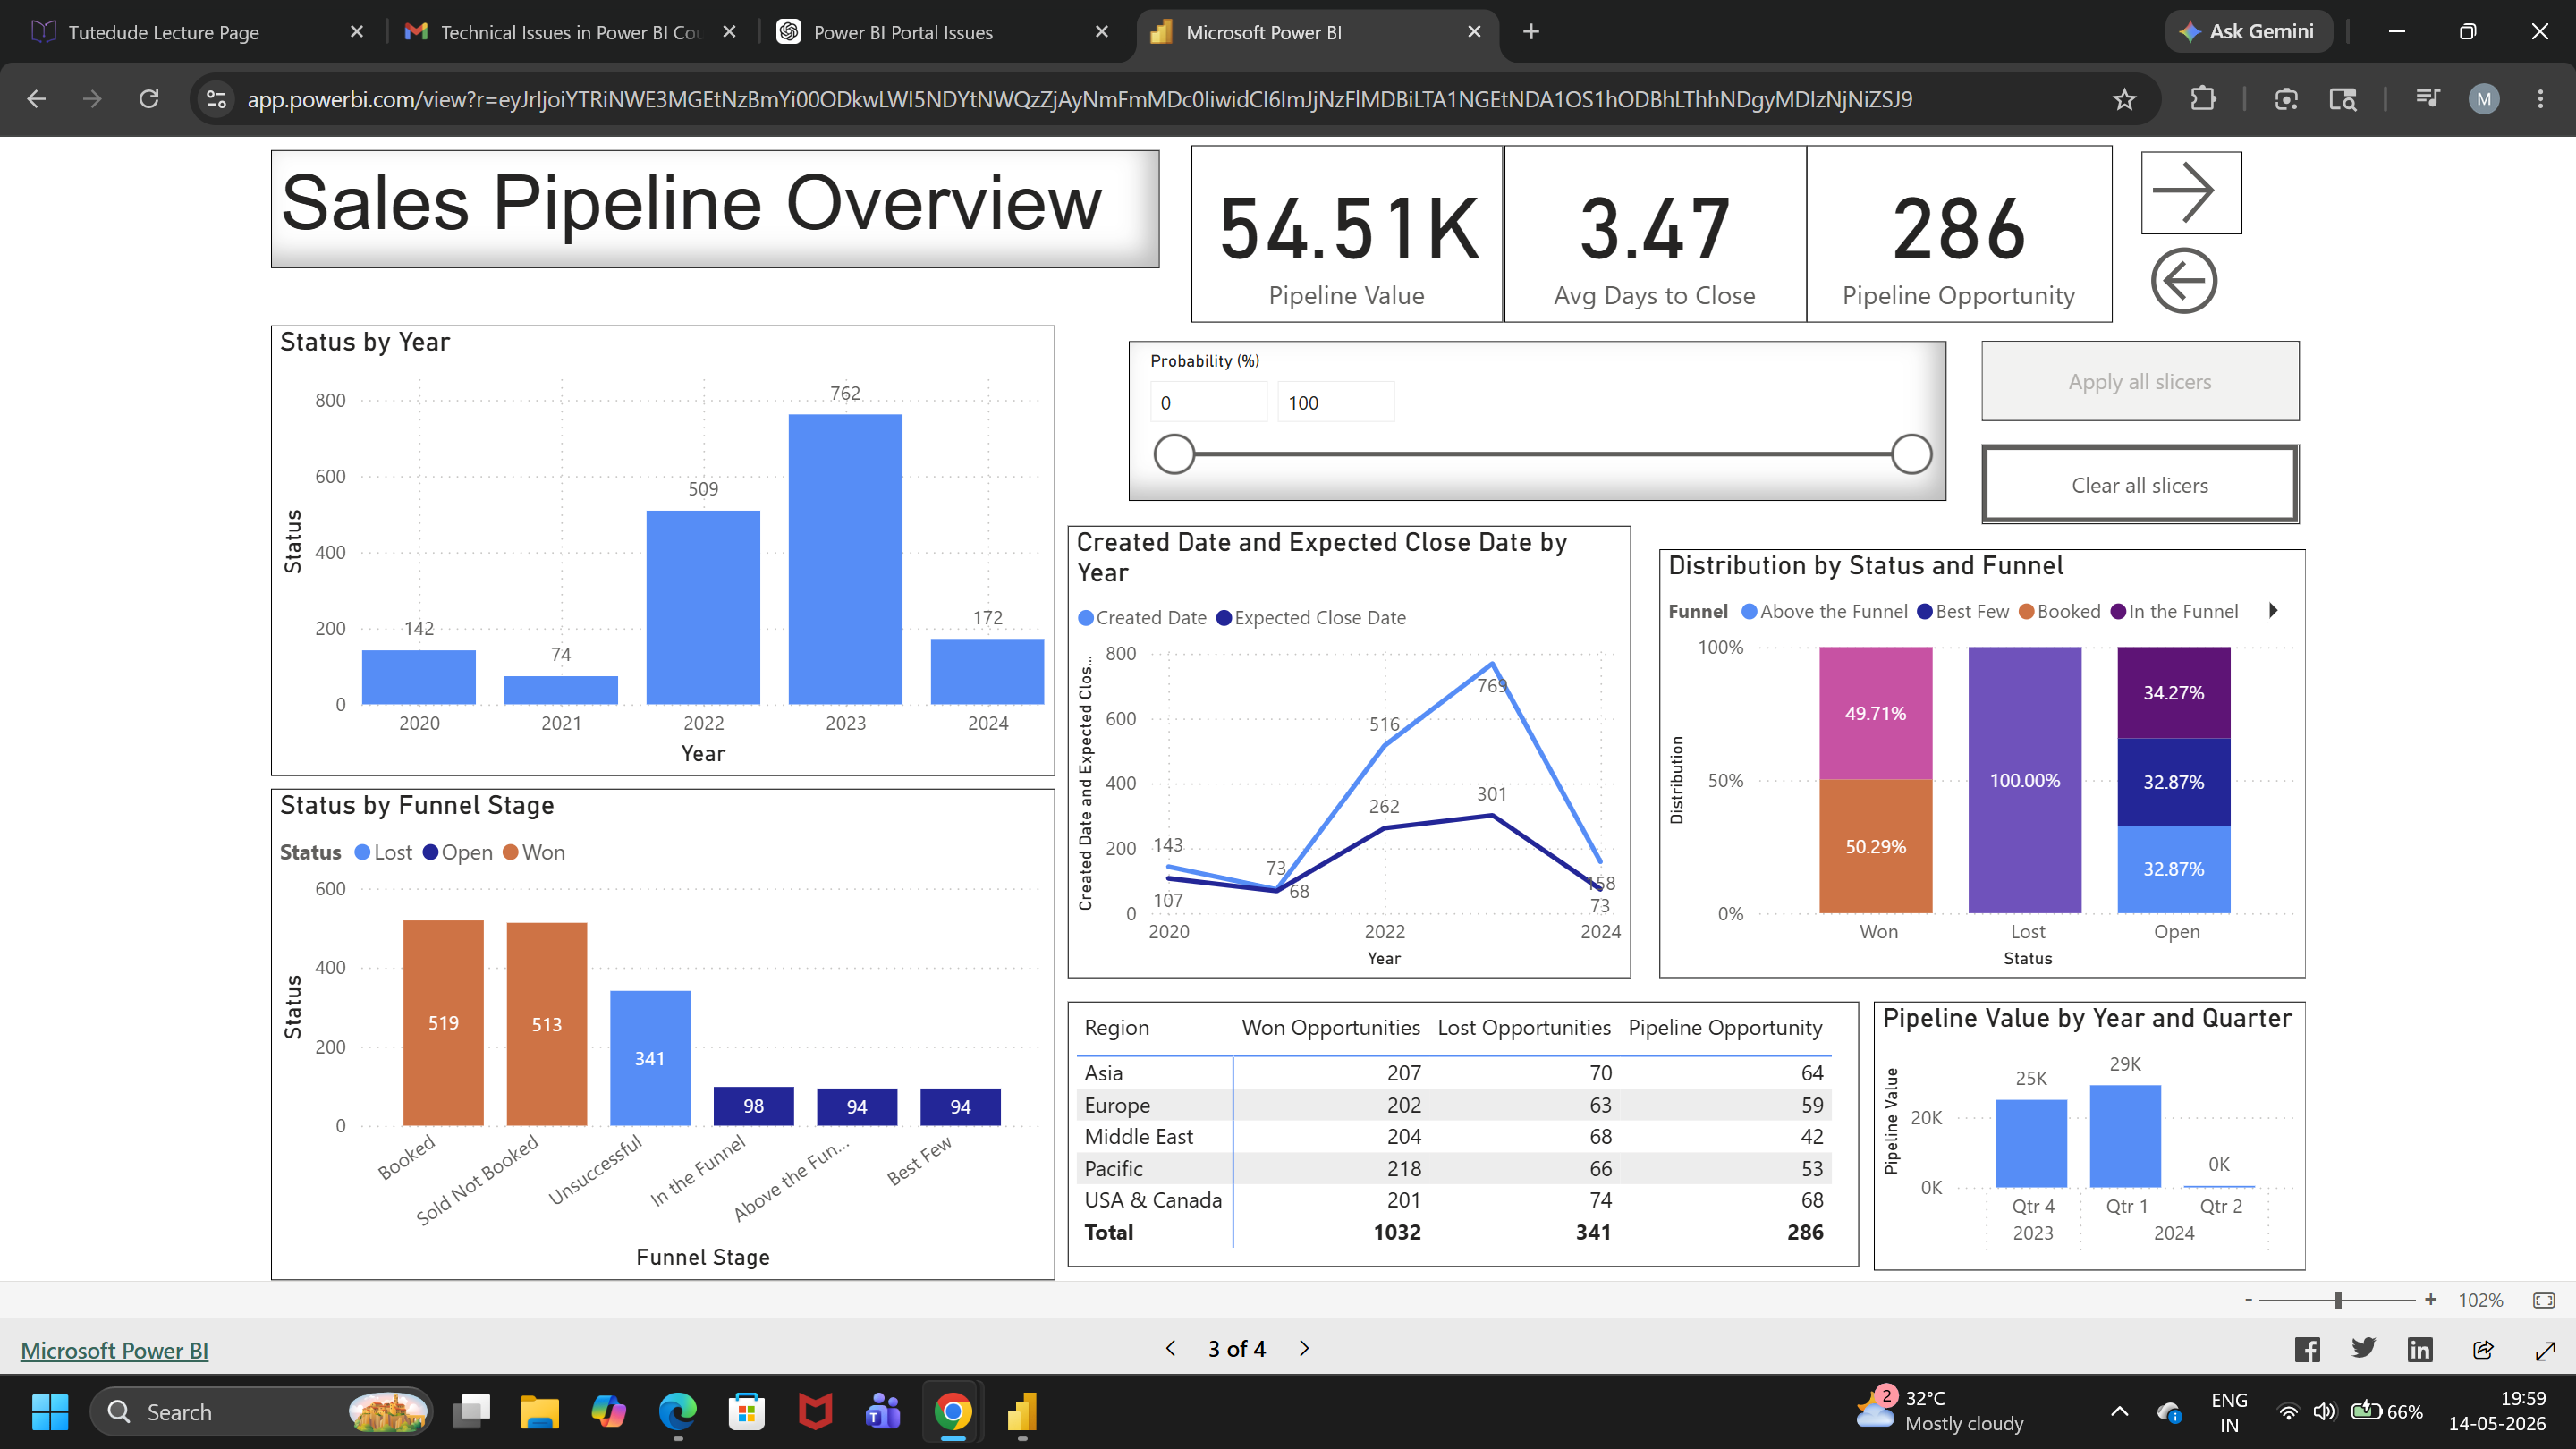

The dashboard page shown, as its layout file describes it:
{"tool":"powerbi","page":{"name":"Pipeline Health","canvas":[1280,720],"ordinal":7},"visuals":[{"type":"card","fields":{"Values":["Sheet1.Avg Days to Close"]},"box":[775.5,6.4,190,111.6],"z":0},{"type":"card","fields":{"Values":["Sheet1.Pipeline Value"]},"box":[579.3,6.4,196.2,111.6],"z":1000},{"type":"card","fields":{"Values":["Sheet1.Pipeline Opportunity"]},"box":[965.5,6.4,192.5,111.6],"z":2000},{"type":"columnChart","fields":{"Category":["Sheet1.Funnel Stage"],"Y":["CountNonNull(Sheet1.Status)"],"Series":["Sheet1.Region"]},"box":[0,410.7,492.9,309],"z":3000},{"type":"columnChart","fields":{"Category":["Sheet1.Close Date/Expected Close Date.Variation.Date Hierarchy.Year","Sheet1.Close Date/Expected Close Date.Variation.Date Hierarchy.Quarter","Sheet1.Close Date/Expected Close Date.Variation.Date Hierarchy.Month","Sheet1.Close Date/Expected Close Date.Variation.Date Hierarchy.Day"],"Y":["CountNonNull(Sheet1.Status)"]},"box":[0,118.9,492.9,283.2],"z":4000},{"type":"slicer","fields":{"Values":["Sheet1.Probability (%)"]},"box":[539.6,129,514.4,100.8],"z":5000},{"type":"lineChart","fields":{"Category":["Sheet1.Created Date.Variation.Date Hierarchy.Year","Sheet1.Created Date.Variation.Date Hierarchy.Quarter","Sheet1.Created Date.Variation.Date Hierarchy.Month","Sheet1.Created Date.Variation.Date Hierarchy.Day"],"Y":["CountNonNull(Sheet1.Created Date)","Count(Sheet1.Close Date/Expected Close Date)"]},"box":[501.5,245.2,354.3,284.4],"z":6000},{"type":"hundredPercentStackedColumnChart","fields":{"Category":["Sheet1.Status"],"Series":["Sheet1 (2).Funnel"],"Y":["CountNonNull(Sheet1.Opportunity Name (PQ))"]},"box":[873,259.9,407,269.7],"z":7000},{"type":"pivotTable","fields":{"Rows":["Sheet1.Region"],"Values":["Sheet1.Won Opportunities","Sheet1.Lost Opportunities","Sheet1.Pipeline Opportunity"]},"box":[501.5,544.4,497.8,166.7],"z":8000},{"type":"columnChart","fields":{"Y":["Sheet1.Pipeline Value"],"Category":["Sheet1.Close Date/Expected Close Date.Variation.Date Hierarchy.Year","Sheet1.Close Date/Expected Close Date.Variation.Date Hierarchy.Quarter","Sheet1.Close Date/Expected Close Date.Variation.Date Hierarchy.Month"]},"box":[1007.8,544.4,272.2,169.2],"z":9000},{"type":"actionButton","box":[1076.3,129,200.1,50.4],"z":15000},{"type":"actionButton","box":[1076.3,194.2,200.1,50.4],"z":16000},{"type":"textbox","box":[0,8.9,558.9,74.1],"z":17000},{"type":"actionButton","box":[1174.1,22.2,83,72.6],"z":18000}]}

Visuals, with their boxes on the page's 1280x720 design canvas (x1, y1, x2, y2). These are canvas units, not pixel positions in the 2576x1449 screenshot, which may show the page scaled, cropped or inside an application window:
card - Sheet1.Avg Days to Close: [776, 6, 966, 118]
card - Sheet1.Pipeline Value: [579, 6, 776, 118]
card - Sheet1.Pipeline Opportunity: [966, 6, 1158, 118]
columnChart - Sheet1.Funnel Stage x CountNonNull(Sheet1.Status): [0, 411, 493, 720]
columnChart - Sheet1.Close Date/Expected Close Date.Variation.Date Hierarchy.Year x Sheet1.Close Date/Expected Close Date.Variation.Date Hierarchy.Quarter: [0, 119, 493, 402]
slicer - Sheet1.Probability (%): [540, 129, 1054, 230]
lineChart - Sheet1.Created Date.Variation.Date Hierarchy.Year x Sheet1.Created Date.Variation.Date Hierarchy.Quarter: [502, 245, 856, 530]
hundredPercentStackedColumnChart - Sheet1.Status x Sheet1 (2).Funnel: [873, 260, 1280, 530]
pivotTable - Sheet1.Region x Sheet1.Won Opportunities: [502, 544, 999, 711]
columnChart - Sheet1.Pipeline Value x Sheet1.Close Date/Expected Close Date.Variation.Date Hierarchy.Year: [1008, 544, 1280, 714]
actionButton: [1076, 129, 1276, 179]
actionButton: [1076, 194, 1276, 245]
textbox: [0, 9, 559, 83]
actionButton: [1174, 22, 1257, 95]
